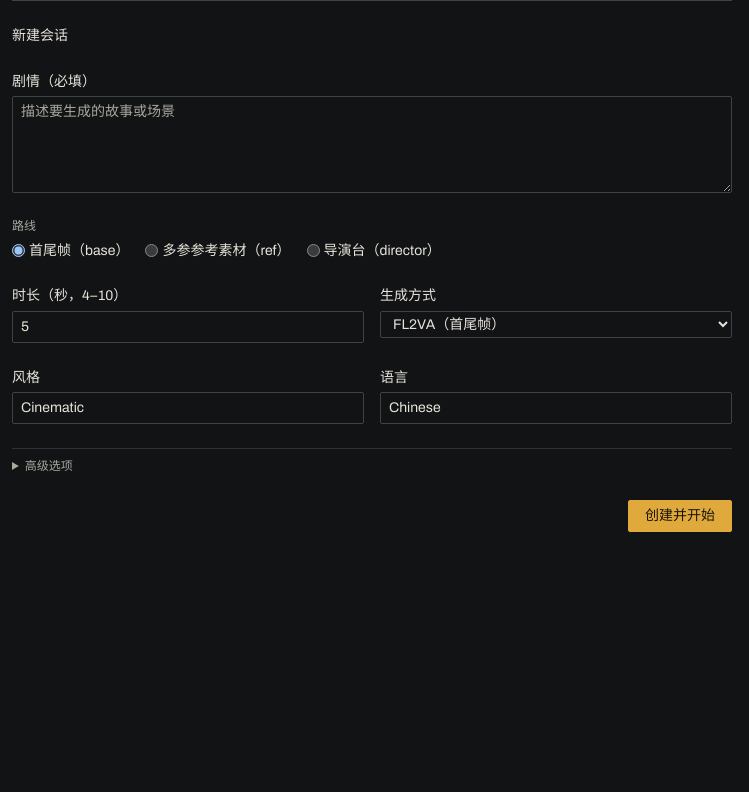
Test: SessionCreateForm 画布选择器（#366） › director 显示成片画幅口径，选 1920×1080 当场说破实际执行 1920×1088
Click the radio button named "mode" at (313, 251), box top-left (306, 244), bottom-right (320, 257)
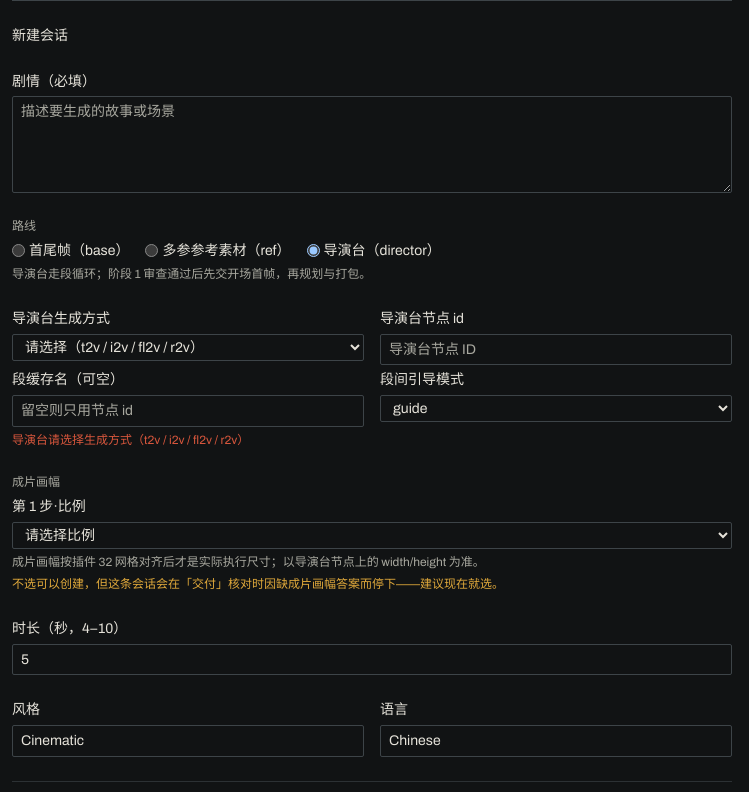
Expected: the text "成片画幅" is shown, top-left (12, 475), bottom-right (60, 489)
Select "16:9" in the dropdown named "canvas_ratio" at (372, 535), box top-left (12, 522), bottom-right (732, 549)
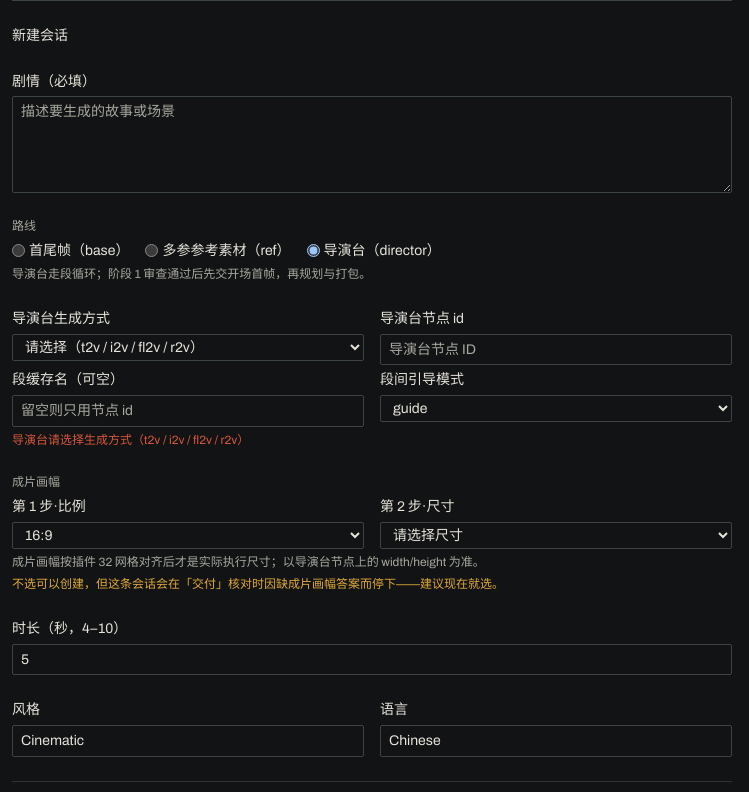
Select "1920 × 1080" in the dropdown named "canvas_size" at (556, 535), box top-left (380, 522), bottom-right (732, 549)
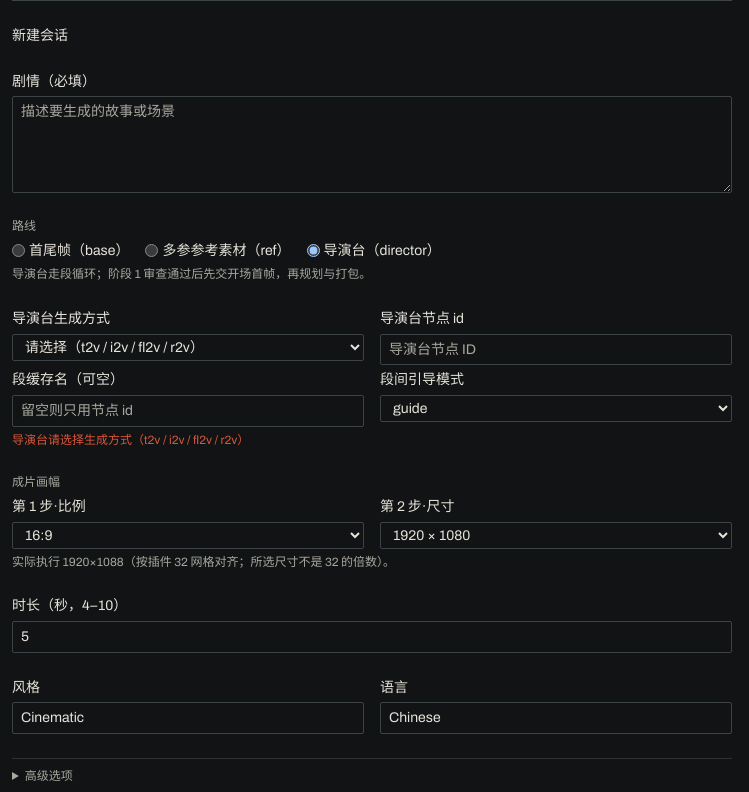
Expected: the text "实际执行 1920×1088" is shown, top-left (12, 555), bottom-right (395, 569)
